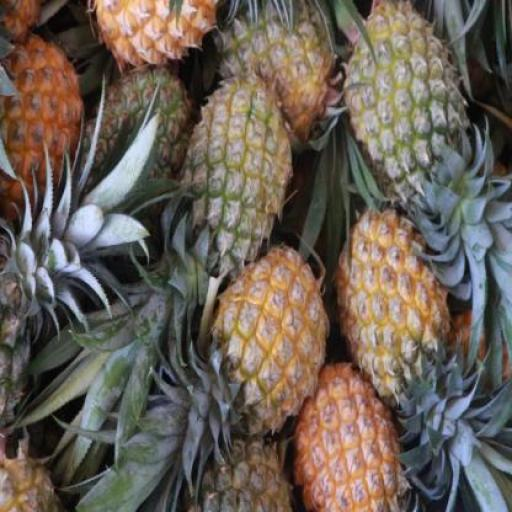------------------------------: (346, 2, 465, 216), (184, 82, 290, 277), (219, 0, 337, 144)
Pineapple - v8 v1: (338, 211, 447, 407), (220, 249, 326, 432), (293, 365, 406, 512), (0, 32, 84, 229)
